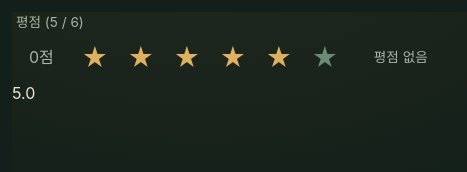
Test: RatingStars › 평점 없음으로 지운다
Expected: the text "(5 / 6)" is shown, [45, 14, 84, 30]
Click the button "평점 없음".
click(401, 58)  # box [357, 36, 445, 80]
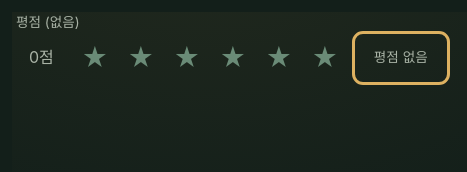
Expected: the text "(없음)" is shown, [45, 14, 80, 30]
